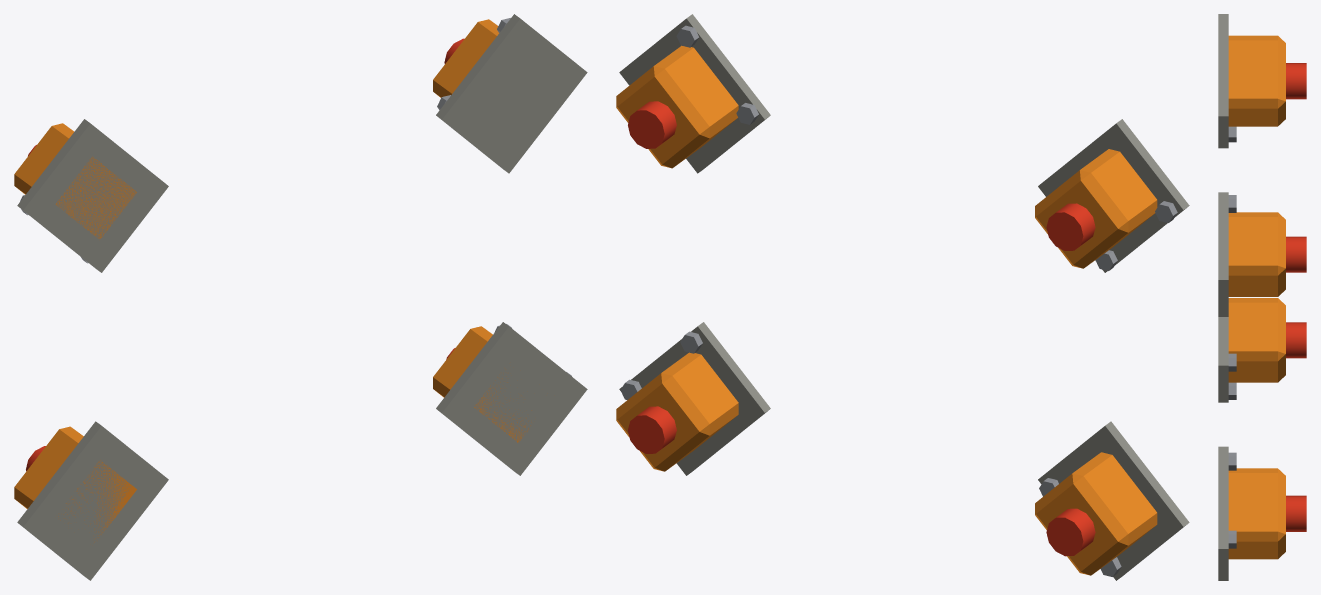
The model's file is refuge100_release.obj.
The picture shows the model from 3 angles, left to right: view 1: azimuth 30°, elevation 25°; view 2: azimuth 150°, elevation 25°; view 3: azimuth 270°, elevation 25°; orthographic projection. The views are drawn at different scales.
Visible parts, largest first — view 1: refuge100_release; view 2: refuge100_release; view 3: refuge100_release.
Part boxes in pixels (x1,y1,x2,y2): refuge100_release: (14,14,587,580); refuge100_release: (616,14,1189,580); refuge100_release: (1218,14,1306,580).
Bounding box in the file's own units: 2.14 × 1.65 × 0.34.
